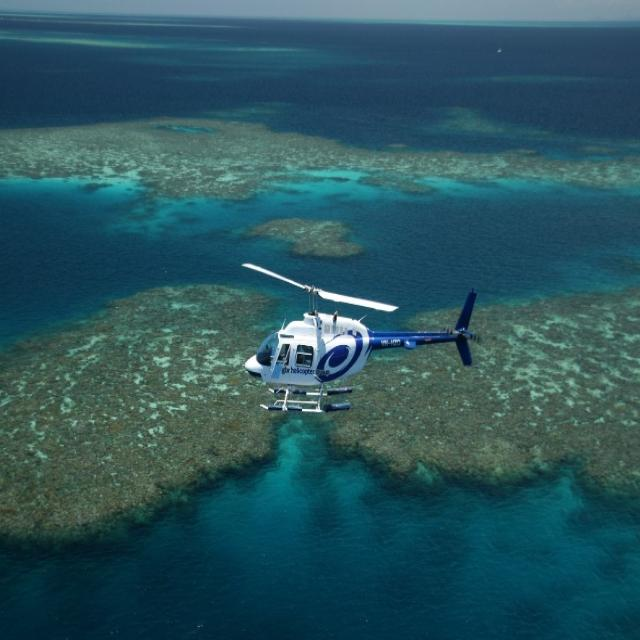helicopter: (239, 263, 479, 416)
